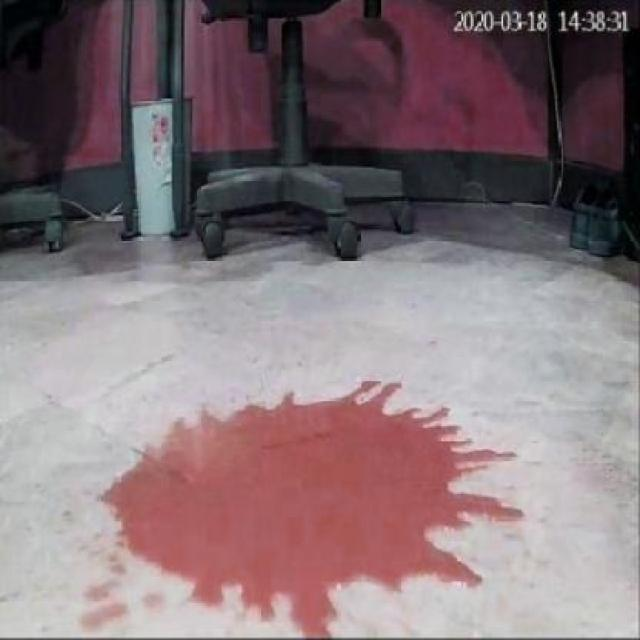spillage: (97, 379, 524, 635)
